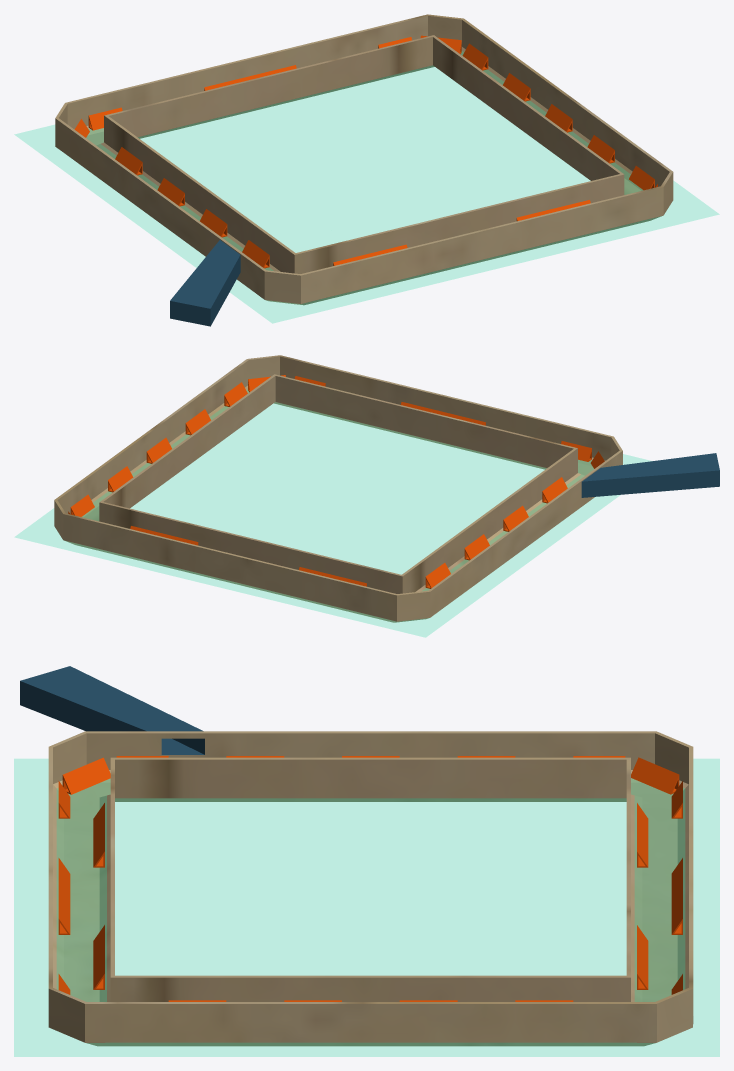
File: SwimingPool2.fbx
3 renders of one model, top to bottom at view 1: azimuth 30°, elevation 25°; view 2: azimuth 150°, elevation 25°; view 3: azimuth 270°, elevation 25°, orthographic. The views are drawn at different scales.
Parts seen in each view (by area): view 1: WALLS.001, WATER, LINES.002; view 2: WALLS.001, WATER, LINES.002; view 3: WATER, WALLS.001, LINES.002.
Part boxes in pixels (x1=…): WALLS.001: x1=55, y1=14, x2=673, y2=326; WATER: x1=14, y1=51, x2=719, y2=323; LINES.002: x1=74, y1=35, x2=657, y2=268; WALLS.001: x1=54, y1=355, x2=719, y2=622; WATER: x1=15, y1=390, x2=649, y2=637; LINES.002: x1=68, y1=375, x2=604, y2=588; WATER: x1=14, y1=759, x2=719, y2=1056; WALLS.001: x1=20, y1=666, x2=693, y2=1046; LINES.002: x1=58, y1=756, x2=682, y2=1001.
Bounding box in the file's own units: 289 × 244 × 18.5.
